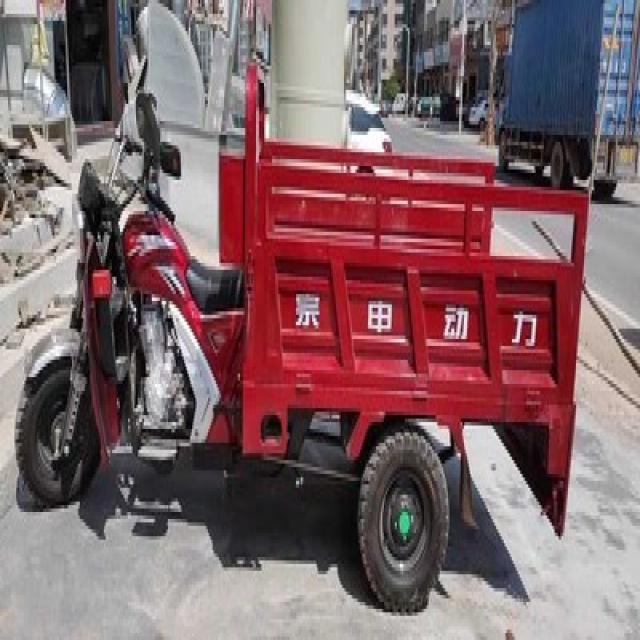car: (341, 80, 394, 176)
tricycle: (9, 28, 588, 612)
truck: (489, 0, 638, 201)
